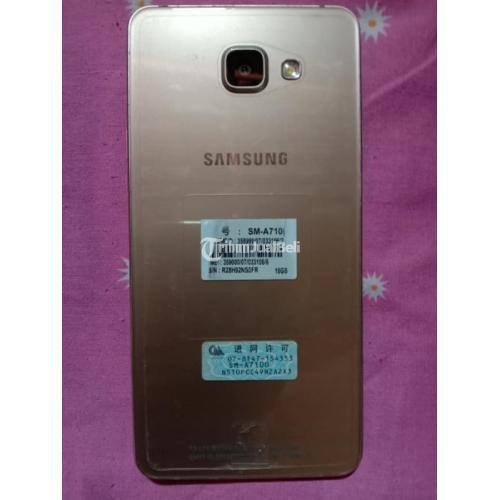Handphone: (123, 1, 373, 485)
